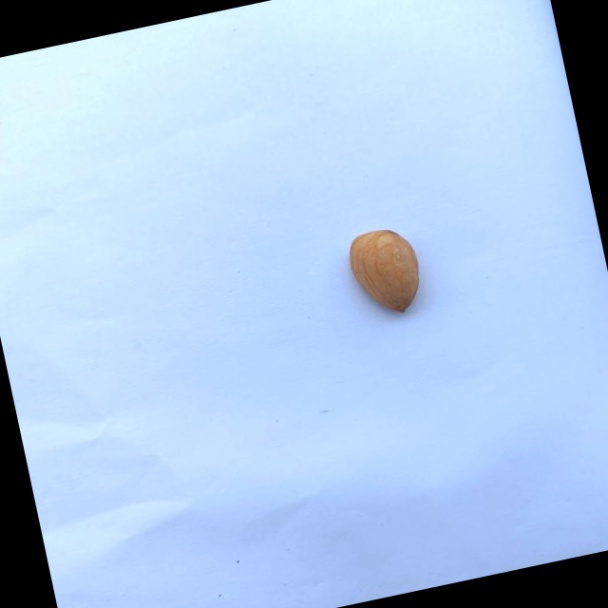grade2: (338, 220, 431, 325)
